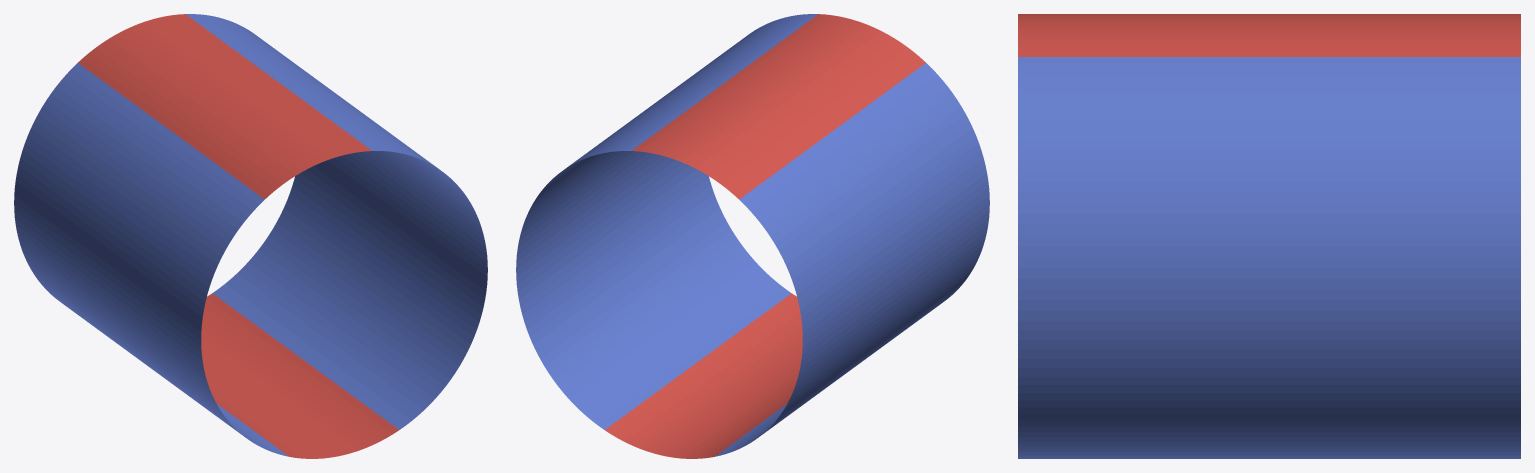
Rendered from menu_orn_b_straight.fbx.
3 renders of one model, left to right at view 1: azimuth 30°, elevation 25°; view 2: azimuth 150°, elevation 25°; view 3: azimuth 270°, elevation 25°, orthographic. The views are drawn at different scales.
Parts seen in each view (by area): view 1: Cylinder.002; view 2: Cylinder.002; view 3: Cylinder.002.
Part boxes in pixels (x1,y1,x2,y2): Cylinder.002: (14, 14, 487, 458); Cylinder.002: (516, 14, 989, 458); Cylinder.002: (1018, 14, 1520, 458).
Size of the model in its own units: 45.35 by 45.35 by 51.26.
